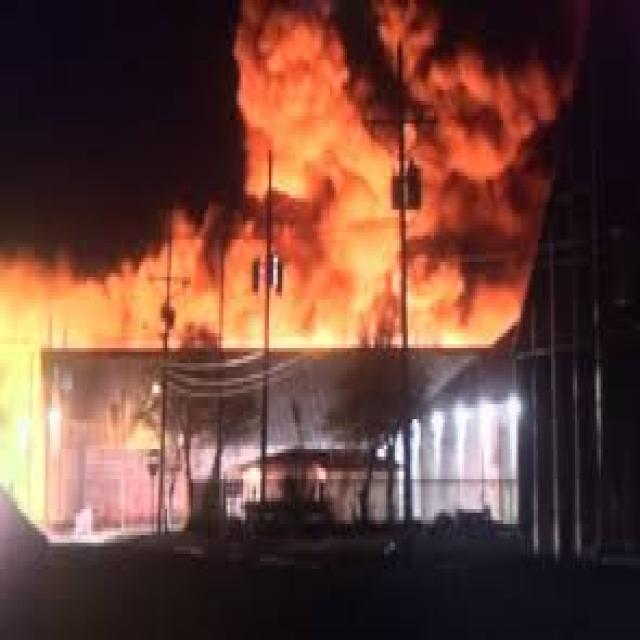Fire: (230, 9, 528, 357), (0, 252, 224, 529)
